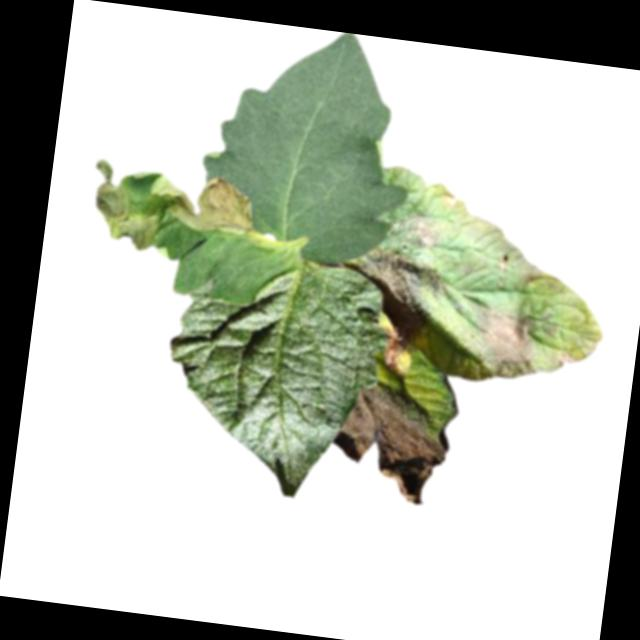Late_blight: (323, 376, 454, 507), (347, 248, 443, 342), (81, 158, 168, 254), (461, 300, 544, 384), (163, 171, 257, 237), (380, 206, 448, 260), (378, 333, 412, 380), (547, 344, 576, 376), (440, 191, 464, 211)
healthy: (152, 246, 384, 504), (200, 17, 427, 270)
